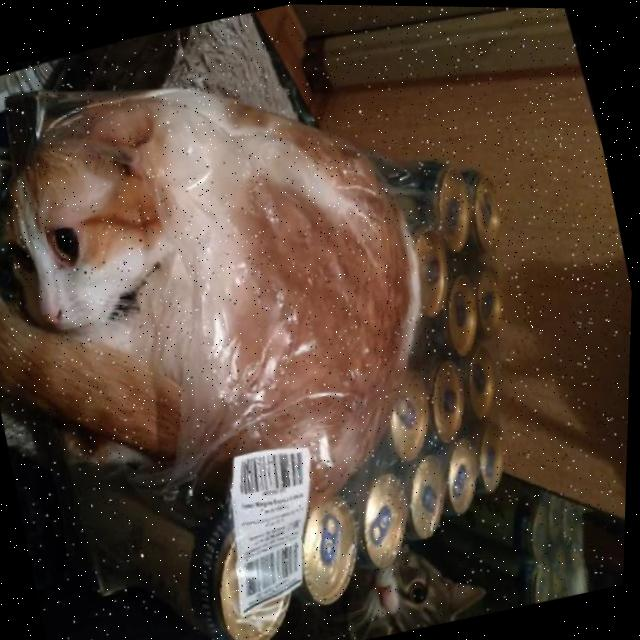Cats: (0, 25, 457, 532), (307, 507, 493, 640)
